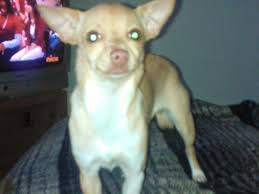chihuahua: (31, 3, 218, 194)
